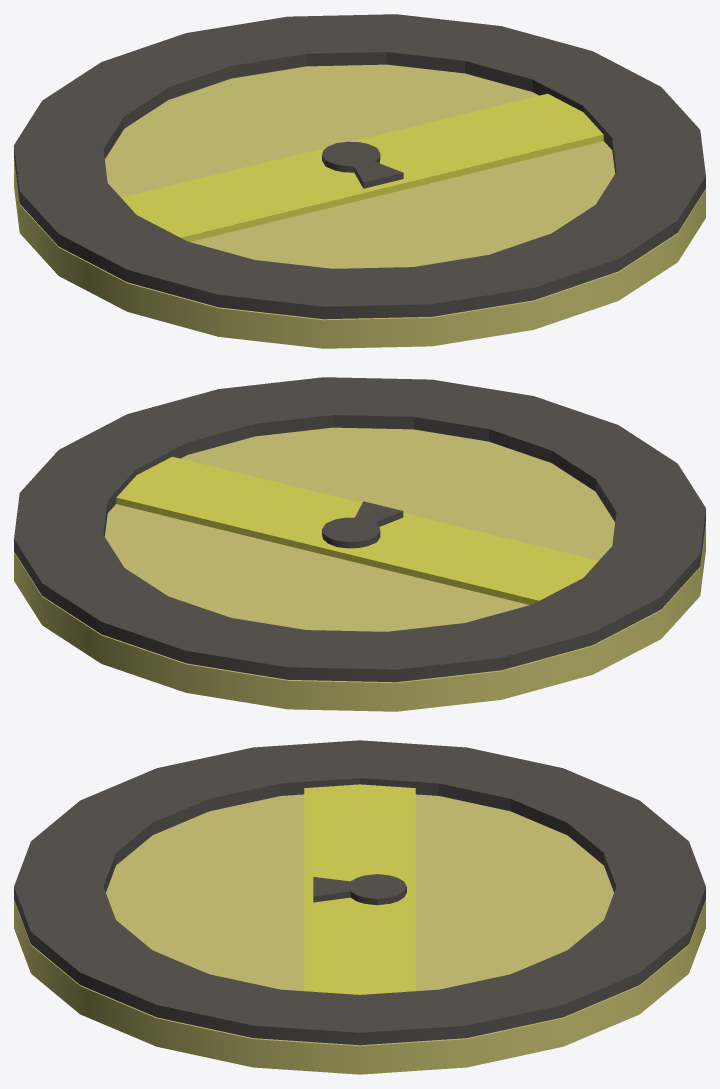
Rendered from aruhula_aitemu_toreru_ba.fbx.
3 renders of one model, top to bottom at view 1: azimuth 30°, elevation 25°; view 2: azimuth 150°, elevation 25°; view 3: azimuth 270°, elevation 25°, orthographic.
Visible parts, largest first — view 1: pCylinder2, pCylinder1, pPlane2, pPlane1; view 2: pCylinder2, pCylinder1, pPlane2, pPlane1; view 3: pCylinder2, pCylinder1, pPlane2, pPlane1.
Part boxes in pixels (x1=…): pCylinder2: x1=14, y1=14, x2=705, y2=319; pCylinder1: x1=14, y1=64, x2=705, y2=348; pPlane2: x1=121, y1=93, x2=603, y2=241; pPlane1: x1=322, y1=141, x2=403, y2=188; pCylinder2: x1=14, y1=377, x2=705, y2=682; pCylinder1: x1=14, y1=427, x2=705, y2=711; pPlane2: x1=116, y1=456, x2=598, y2=604; pPlane1: x1=322, y1=501, x2=403, y2=548; pCylinder2: x1=14, y1=740, x2=705, y2=1045; pCylinder1: x1=14, y1=794, x2=705, y2=1074; pPlane2: x1=304, y1=784, x2=415, y2=994; pPlane1: x1=313, y1=874, x2=406, y2=905.
Size of the model in its own units: 5 by 0.3343 by 5.
